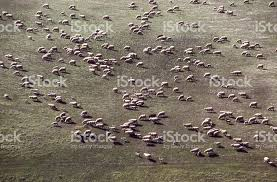sheep: (203, 147, 215, 156), (156, 109, 166, 119), (123, 129, 135, 137), (211, 48, 223, 56), (188, 147, 200, 155), (203, 105, 214, 113), (202, 71, 212, 79), (143, 151, 152, 159), (135, 59, 144, 67), (186, 74, 194, 82), (176, 93, 184, 101), (255, 63, 264, 70), (112, 86, 119, 94), (69, 100, 77, 107), (231, 70, 241, 75), (172, 85, 179, 92), (126, 78, 135, 83)
